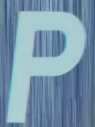Parking: (9, 4, 82, 117)
